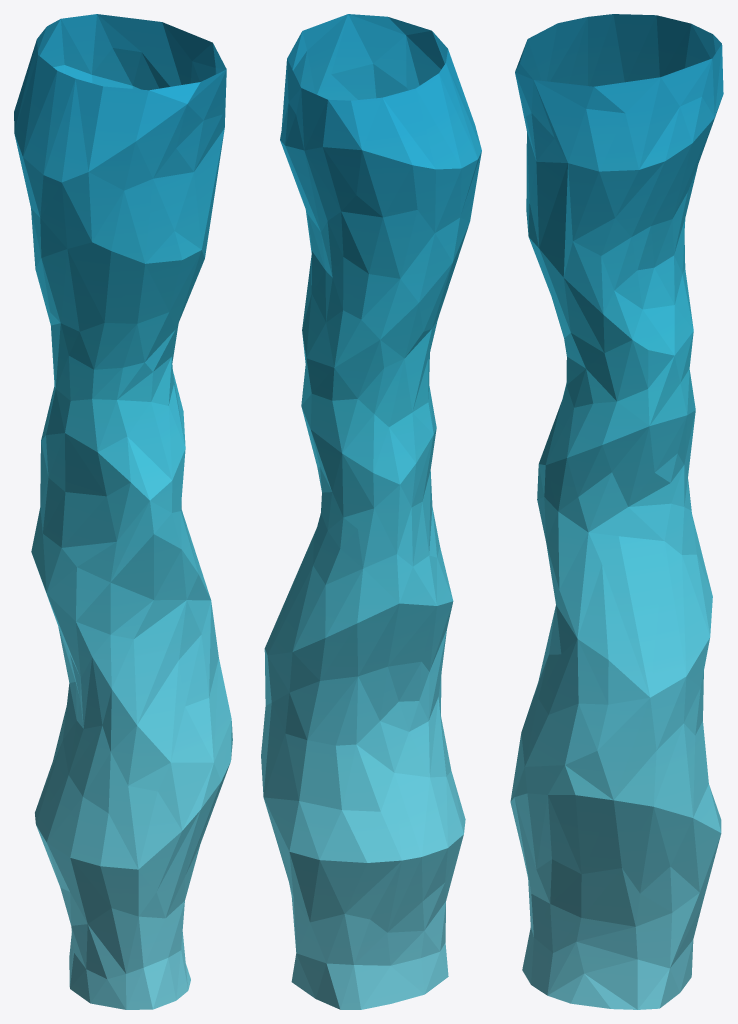
Rendered from obstacle_15_001.fbx.
The picture shows the model from 3 angles, left to right: view 1: azimuth 30°, elevation 25°; view 2: azimuth 150°, elevation 25°; view 3: azimuth 270°, elevation 25°; orthographic projection.
Parts seen in each view (by area): view 1: obstacle_15_001; view 2: obstacle_15_001; view 3: obstacle_15_001.
Boxes of the visible parts, x1=… form: obstacle_15_001: x1=14, y1=14, x2=232, y2=1009; obstacle_15_001: x1=261, y1=14, x2=481, y2=1009; obstacle_15_001: x1=510, y1=14, x2=723, y2=1009.
Bounding box in the file's own units: 156 × 148 × 717.
